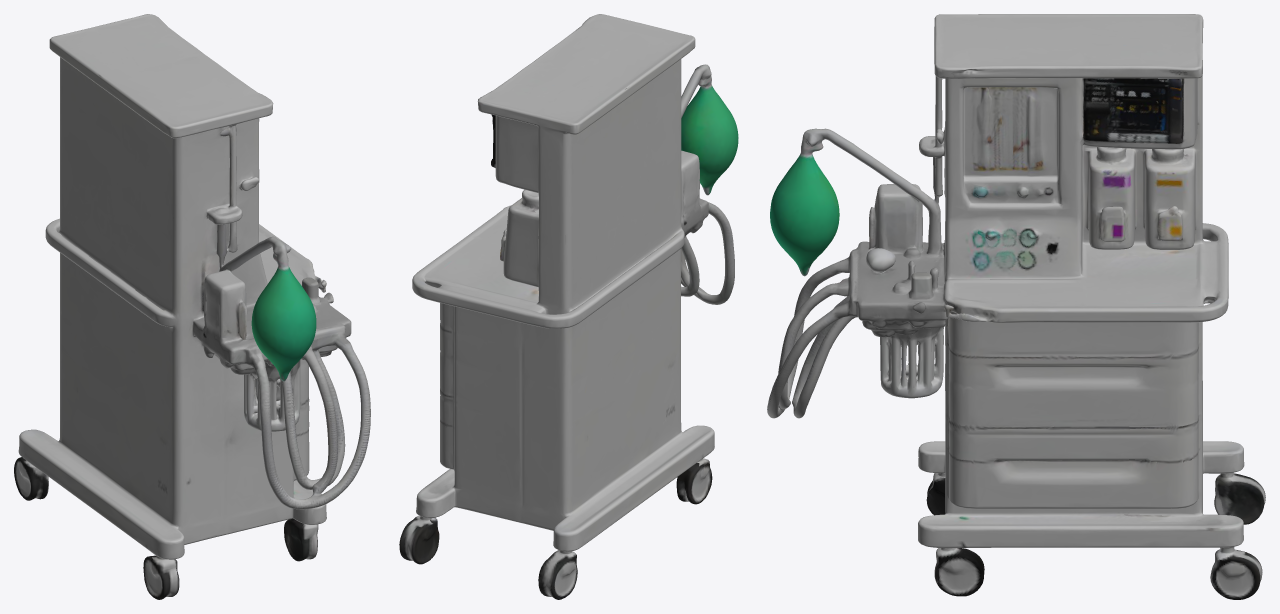
Rendered from anesthesia-machine.glb.
3 views of the same model, side by side, from view 1: azimuth 30°, elevation 25°; view 2: azimuth 150°, elevation 25°; view 3: azimuth 270°, elevation 25° (orthographic). The views are drawn at different scales.
Visible parts, largest first — view 1: tripo_node_aff4baba-a507-4beb-b9b6-f98f643bf3ac; view 2: tripo_node_aff4baba-a507-4beb-b9b6-f98f643bf3ac; view 3: tripo_node_aff4baba-a507-4beb-b9b6-f98f643bf3ac.
Boxes of the visible parts, x1,y1,x2,y2 form: tripo_node_aff4baba-a507-4beb-b9b6-f98f643bf3ac: (14,14,370,599); tripo_node_aff4baba-a507-4beb-b9b6-f98f643bf3ac: (399,14,738,599); tripo_node_aff4baba-a507-4beb-b9b6-f98f643bf3ac: (767,14,1265,599).
Size of the model in its own units: 0.3881 by 0.9492 by 0.8459.
Materials: 1 (1 with a texture image).
